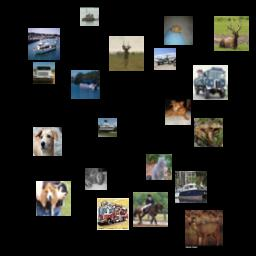airplane: (154, 48, 176, 70)
cat: (146, 154, 172, 180), (85, 168, 107, 190)
deer: (185, 210, 223, 248), (109, 36, 144, 71), (214, 16, 249, 51)
dog: (36, 181, 71, 216), (33, 127, 62, 156), (165, 99, 191, 125)
frog: (194, 118, 223, 147), (164, 16, 193, 45)
ship: (28, 28, 60, 60), (175, 171, 207, 203), (71, 70, 100, 99), (98, 118, 117, 137), (80, 7, 99, 26)
truck: (193, 65, 228, 100), (97, 198, 129, 230), (33, 62, 55, 84)
